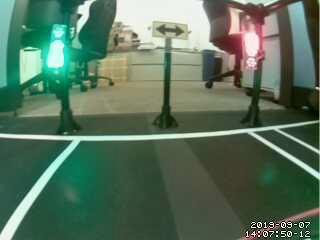Left_Right_sign: (150, 17, 190, 42)
Traffic_light_green: (51, 24, 64, 69)
Traffic_light_red: (243, 30, 261, 58)
